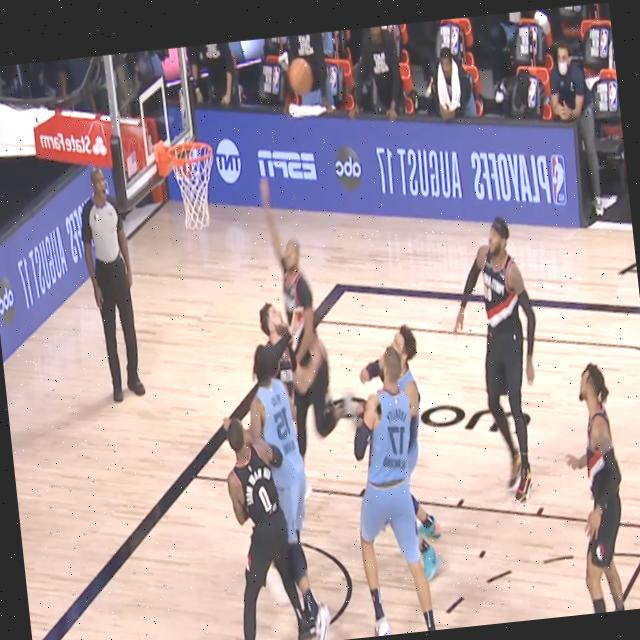no foul: (193, 219, 350, 640), (328, 302, 453, 637), (331, 350, 434, 638), (268, 159, 354, 478), (208, 427, 309, 640)
